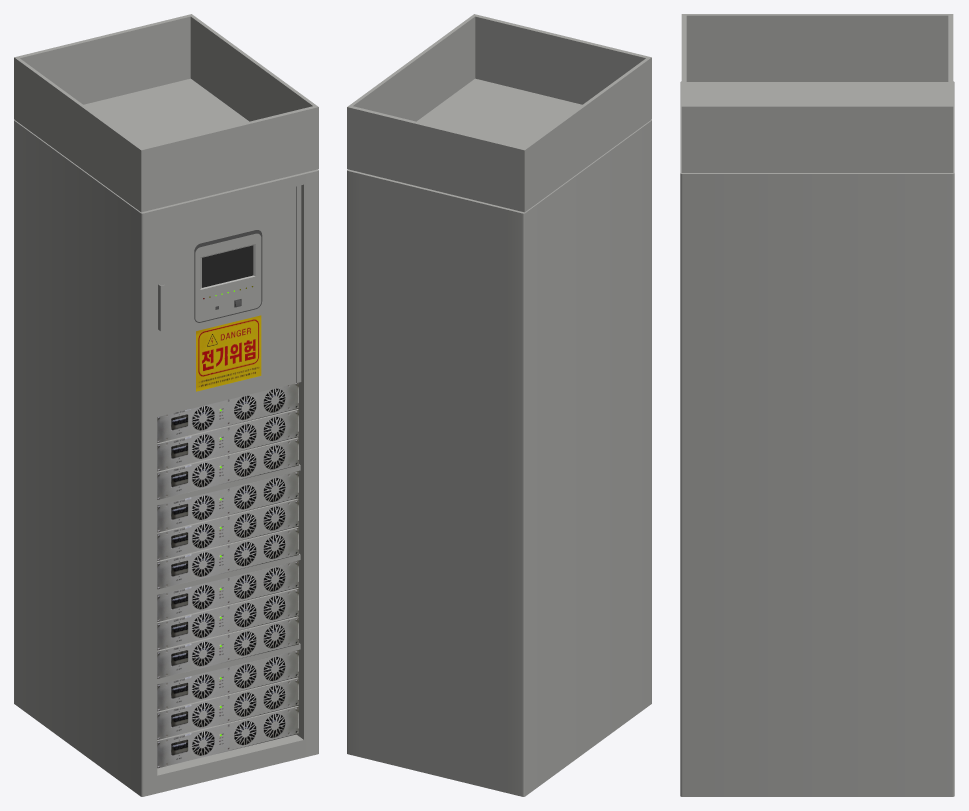
3 views of the same model, side by side, from view 1: azimuth 30°, elevation 25°; view 2: azimuth 150°, elevation 25°; view 3: azimuth 270°, elevation 25° (orthographic). The views are drawn at different scales.
Parts seen in each view (by area): view 1: LDPS-1800M001; view 2: LDPS-1800M001; view 3: LDPS-1800M001.
Part boxes in pixels (x1,y1,x2,y2): LDPS-1800M001: (14, 14, 318, 796); LDPS-1800M001: (347, 14, 651, 796); LDPS-1800M001: (680, 14, 954, 796).
Bounding box in the file's own units: 0.6 × 2.08 × 0.75.
8 materials, 2 textured.
